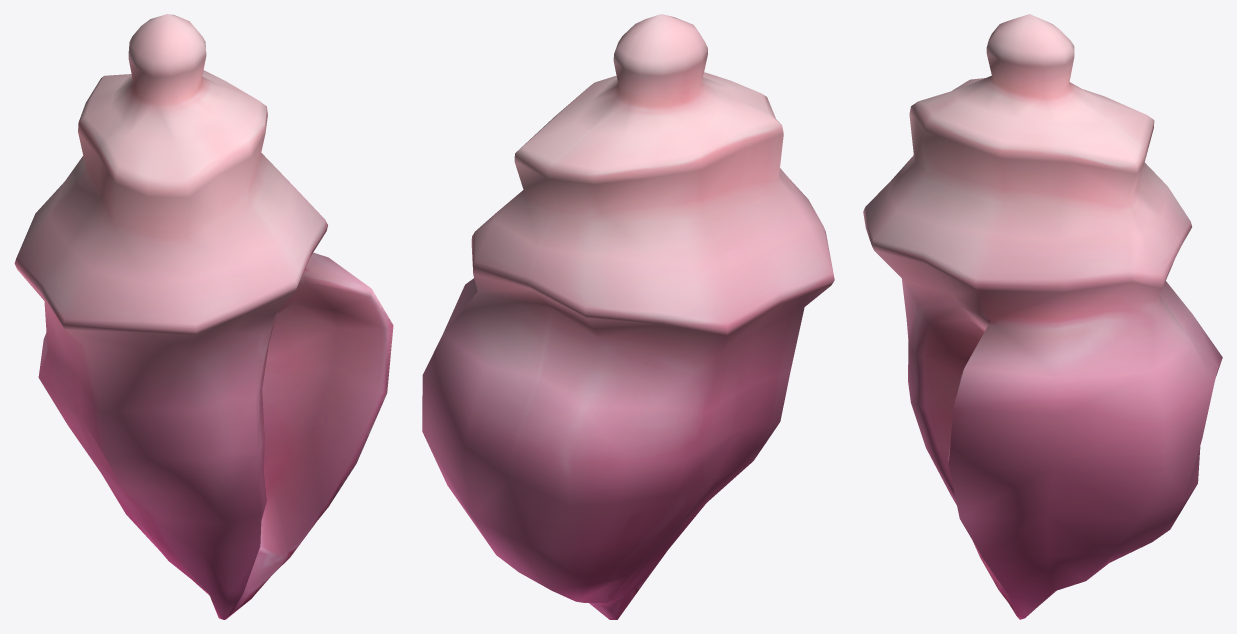
The model's file is weapon_mermaid.obj.
3 views of the same model, side by side, from view 1: azimuth 30°, elevation 25°; view 2: azimuth 150°, elevation 25°; view 3: azimuth 270°, elevation 25° (orthographic). The views are drawn at different scales.
Parts seen in each view (by area): view 1: weapon_mermaid; view 2: weapon_mermaid; view 3: weapon_mermaid.
Part boxes in pixels (left/top/right/bottom): weapon_mermaid: left=14, top=14, right=393, bottom=619; weapon_mermaid: left=422, top=14, right=834, bottom=619; weapon_mermaid: left=863, top=14, right=1222, bottom=619.
Bounding box in the file's own units: 7.6 × 13.81 × 7.75.
